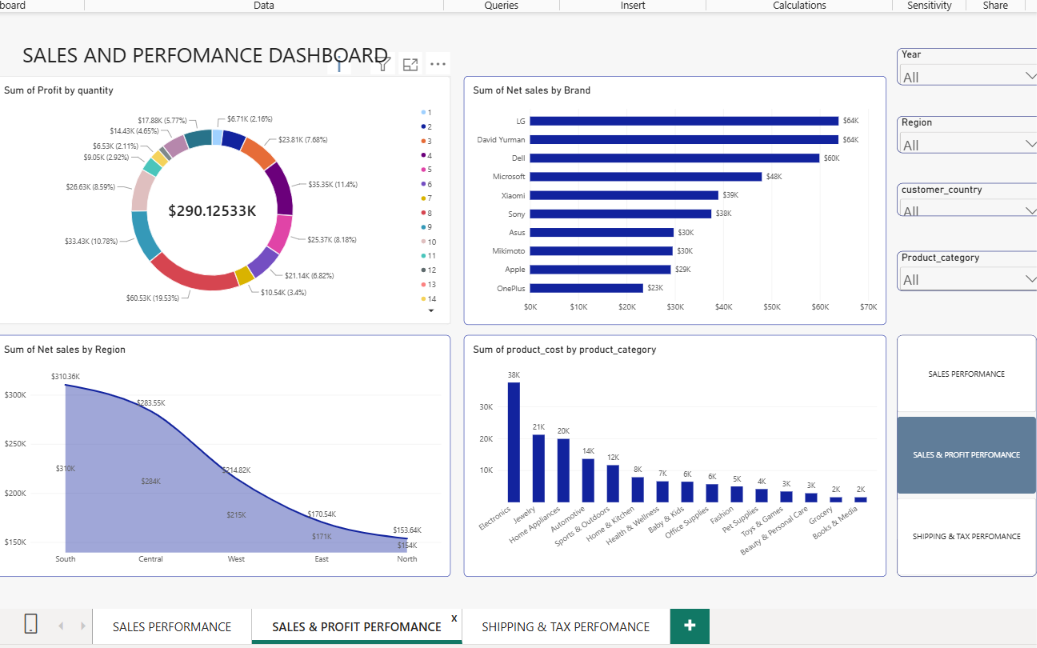

What the dashboard file says about the page in this screenshot:
{"tool":"powerbi","page":{"name":"SALES & PROFIT  PERFOMANCE","canvas":[1920,1080],"ordinal":1},"visuals":[{"type":"clusteredBarChart","title":"Sum of Net sales by Brand","fields":{"Category":["product_catalog.brand"],"Y":["Sum(sales_customer.Net sales)"]},"box":[867.5,115,765,450],"z":0},{"type":"donutChart","title":"Sum of Profit by quantity","fields":{"Series":["sales_customer.quantity"],"Y":["Sum(sales_customer.Profit s)"]},"box":[17.5,115,825,450],"z":1000},{"type":"stackedAreaChart","fields":{"Category":["sales_customer.Region"],"Y":["Sum(sales_customer.Net sales)"]},"box":[17.5,585,825,437.5],"z":2000},{"type":"columnChart","fields":{"Category":["product_catalog.product_category"],"Y":["Sum(product_catalog.product_cost)"]},"box":[867.5,585,765,437.5],"z":3000},{"type":"slicer","fields":{"Values":["sales_customer.region"]},"box":[1650,187.5,270,67.5],"z":4000},{"type":"slicer","fields":{"Values":["sales_customer.order_date.Variation.Date Hierarchy.Year"]},"box":[1650,65,270,67.5],"z":5000},{"type":"slicer","fields":{"Values":["customer.customer_country"]},"box":[1650,310,270,60],"z":6000},{"type":"slicer","fields":{"Values":["sales_customer.product_category"]},"box":[1650,432.5,270,72.5],"z":7000},{"type":"textbox","box":[42.5,50,825,100],"z":8000},{"type":"textbox","box":[1763,0,150,150],"z":9000},{"type":"pageNavigator","box":[1650.4,584.5,253.4,437.9],"z":9001}]}

Visuals, with their boxes on the page's 1920x1080 design canvas (x1, y1, x2, y2). These are canvas units, not pixel positions in the 1037x648 screenshot, which may show the page scaled, cropped or inside an application window:
"Sum of Net sales by Brand" clusteredBarChart: 868,115,1632,565
"Sum of Profit by quantity" donutChart: 18,115,842,565
stackedAreaChart - sales_customer.Region x Sum(sales_customer.Net sales): 18,585,842,1022
columnChart - product_catalog.product_category x Sum(product_catalog.product_cost): 868,585,1632,1022
slicer - sales_customer.region: 1650,188,1920,255
slicer - sales_customer.order_date.Variation.Date Hierarchy.Year: 1650,65,1920,132
slicer - customer.customer_country: 1650,310,1920,370
slicer - sales_customer.product_category: 1650,432,1920,505
textbox: 42,50,868,150
textbox: 1763,0,1913,150
pageNavigator: 1650,584,1904,1022
